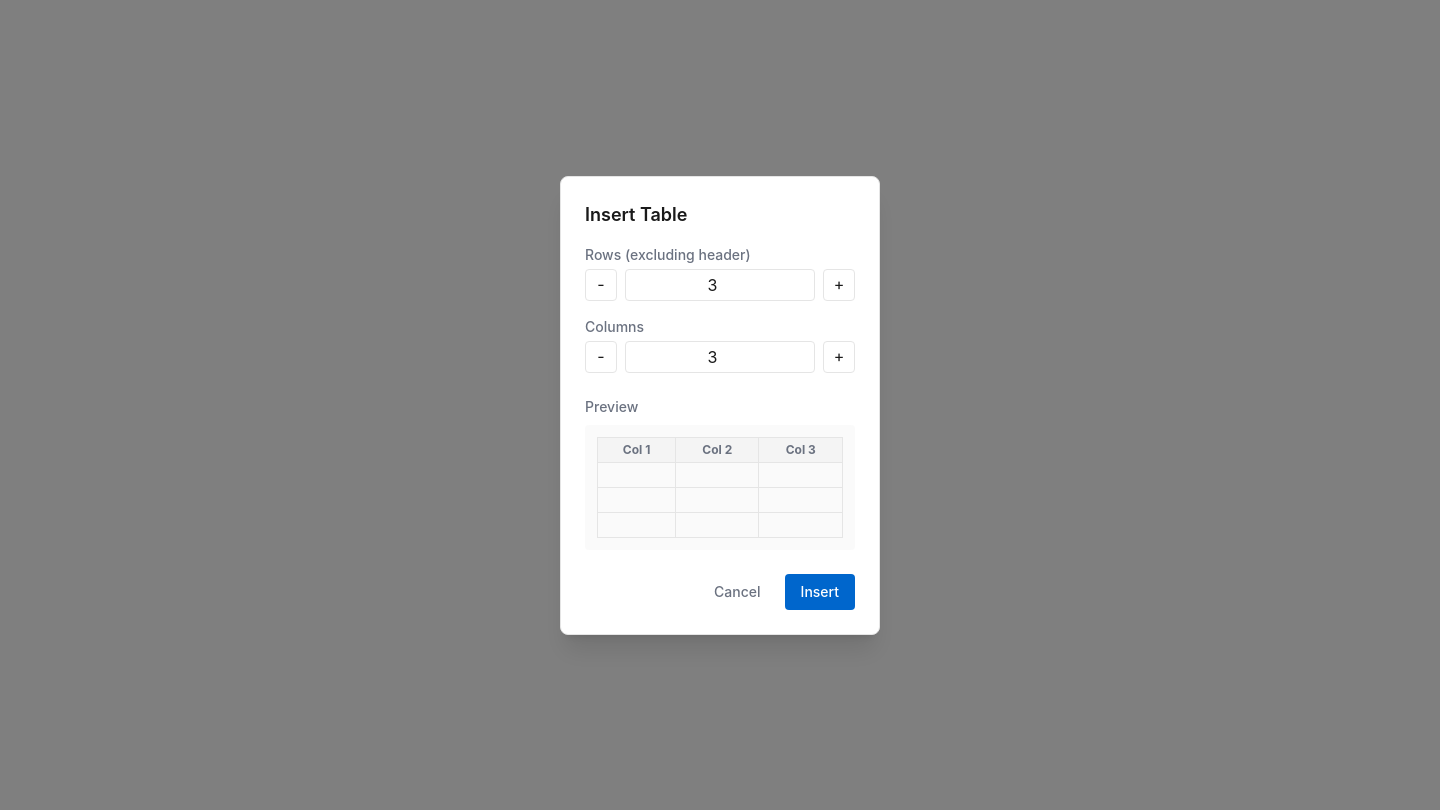
Test case: TableDialog › should decrease rows when - button is clicked
The image size is (1440, 810).
Click the button named "decrease" at (601, 284), box [585,268,617,300]
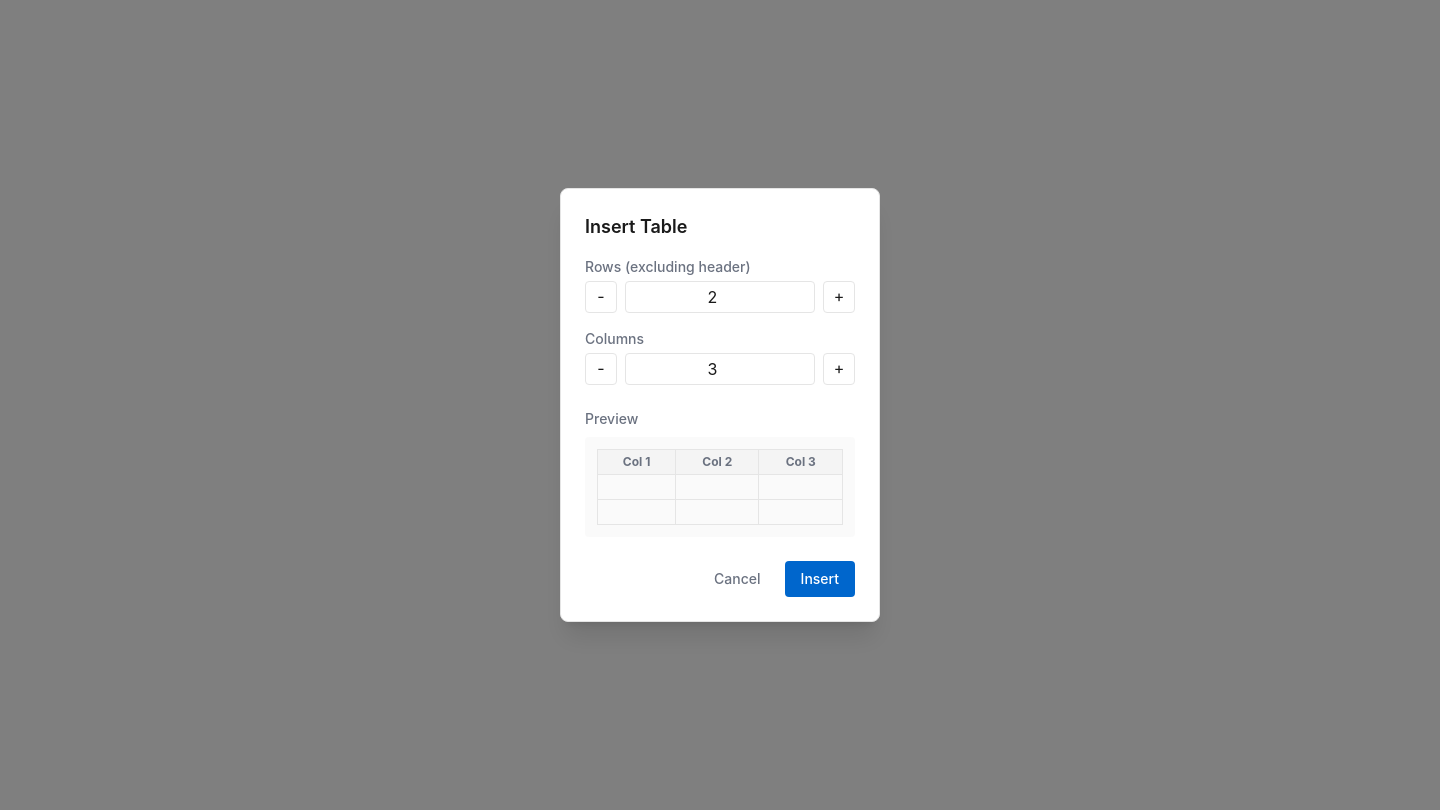
Expected: the number field below "Rows (excluding header)" holds "2", [625,281,815,313]
